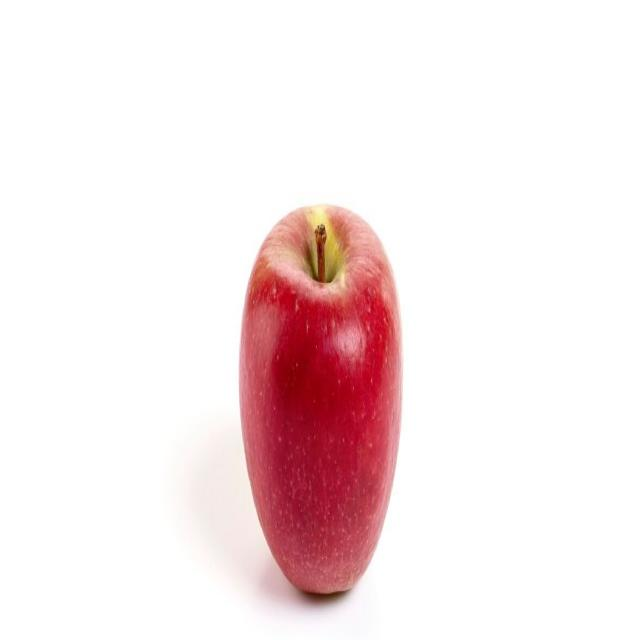Apple: (233, 202, 416, 607)
